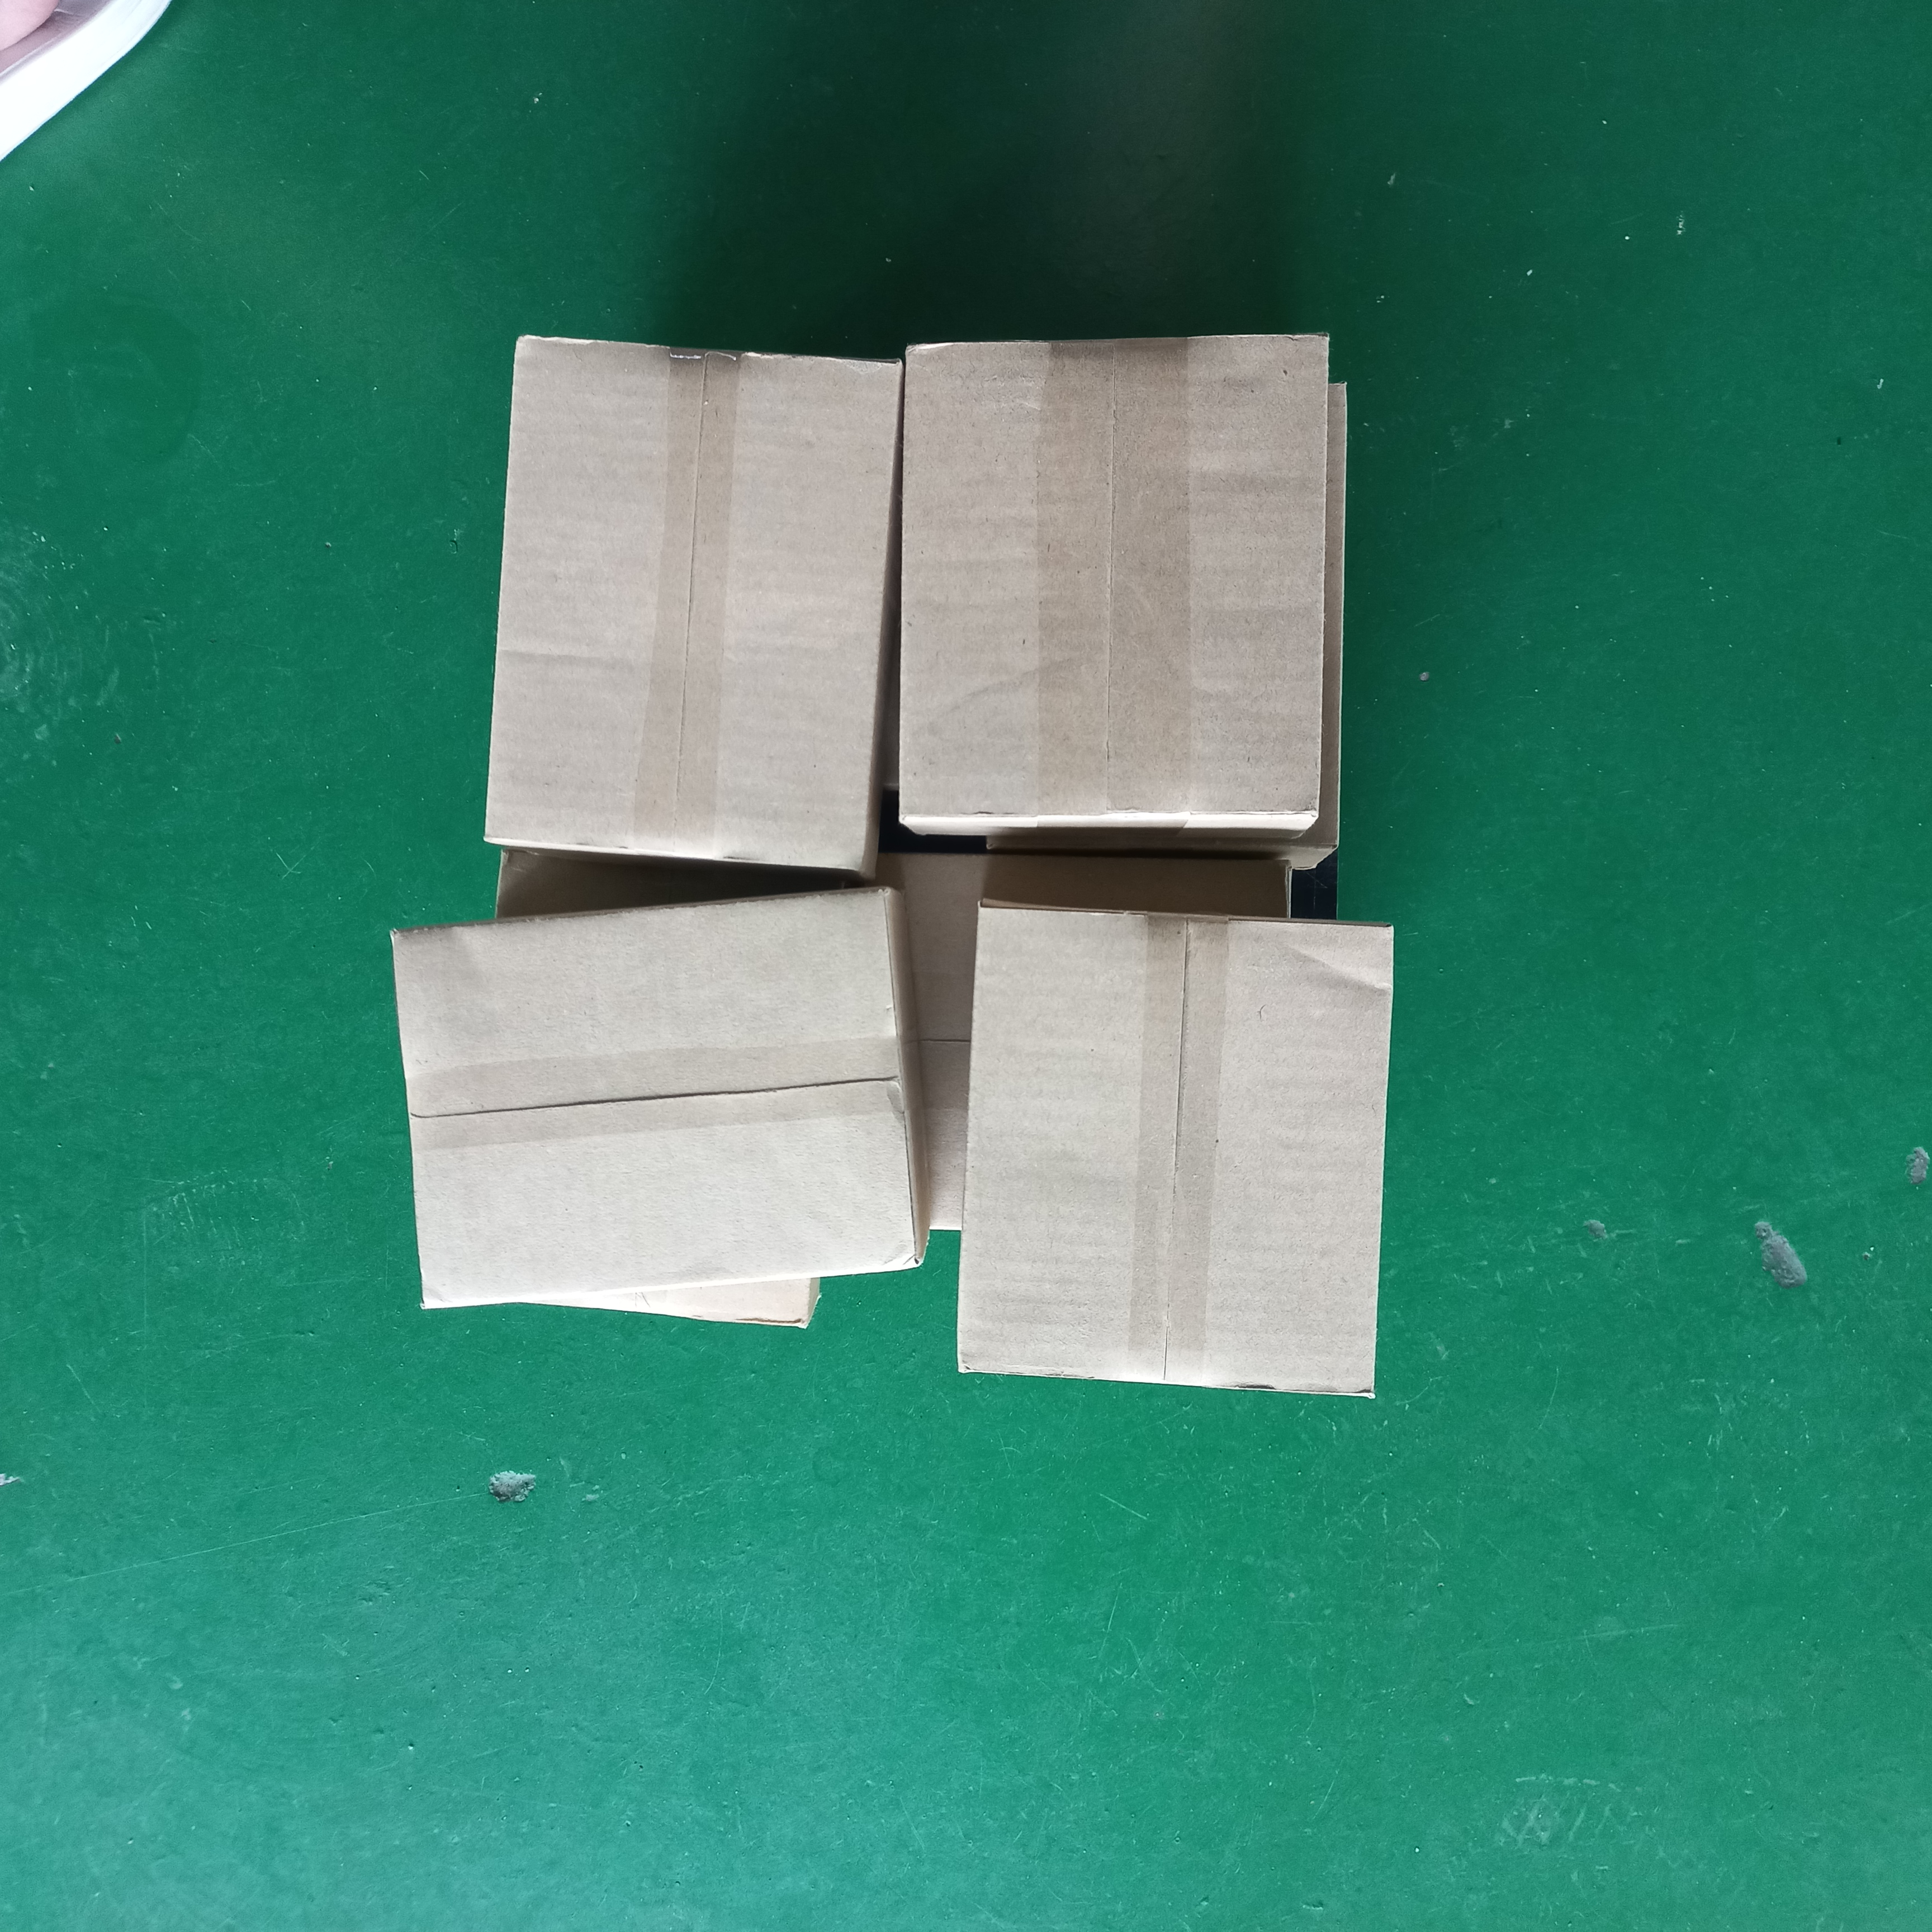box: (380, 874, 924, 1325), (481, 331, 908, 885), (886, 327, 1339, 840), (945, 911, 1399, 1408)
